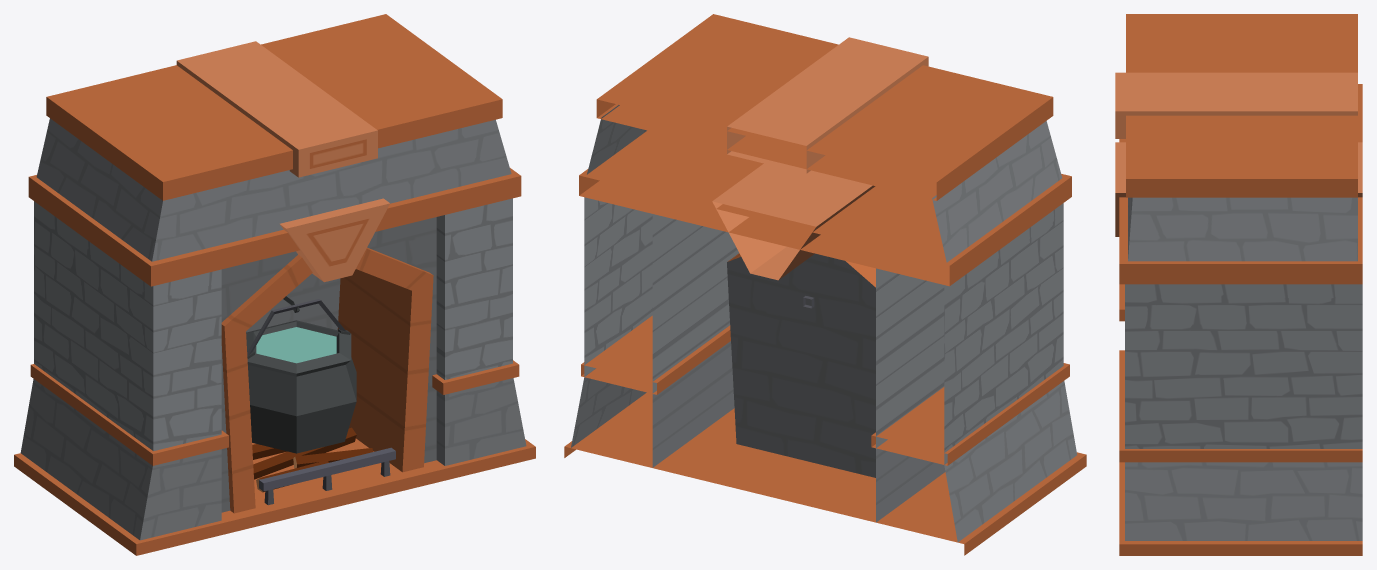
The model's file is Fire Stove 01.fbx.
The picture shows the model from 3 angles, left to right: view 1: azimuth 30°, elevation 25°; view 2: azimuth 150°, elevation 25°; view 3: azimuth 270°, elevation 25°; orthographic projection.
Parts seen in each view (by area): view 1: Fire_Stove_01; view 2: Fire_Stove_01; view 3: Fire_Stove_01.
Boxes of the visible parts, box(x1,y1,x2,y2) form: Fire_Stove_01: box(14, 14, 535, 555); Fire_Stove_01: box(564, 14, 1086, 555); Fire_Stove_01: box(1115, 14, 1362, 555).
Bounding box in the file's own units: 355 × 313 × 191.
